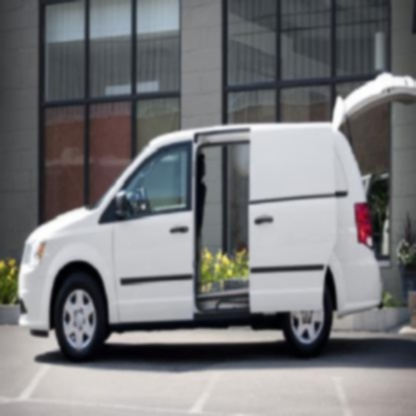Vehicle: (13, 122, 385, 393)
